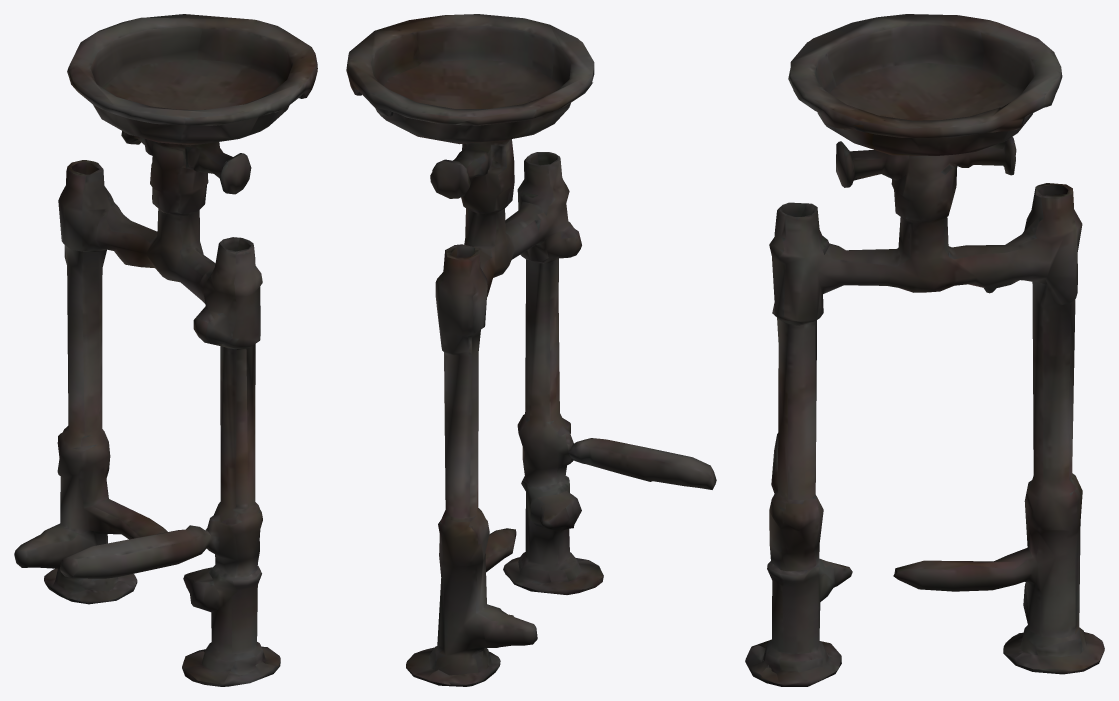
File: worn-iron-drainpipe-v002.glb
The picture shows the model from 3 angles, left to right: view 1: azimuth 30°, elevation 25°; view 2: azimuth 150°, elevation 25°; view 3: azimuth 270°, elevation 25°; orthographic projection. The views are drawn at different scales.
Visible parts, largest first — view 1: worn-iron-drainpipe; view 2: worn-iron-drainpipe; view 3: worn-iron-drainpipe.
Boxes of the visible parts, bbox=[...] form: worn-iron-drainpipe: bbox=[14, 14, 317, 686]; worn-iron-drainpipe: bbox=[346, 14, 716, 686]; worn-iron-drainpipe: bbox=[745, 14, 1104, 686].
Bounding box in the file's own units: 1.79 × 3.17 × 1.7.
Materials: 1 (1 with a texture image).
